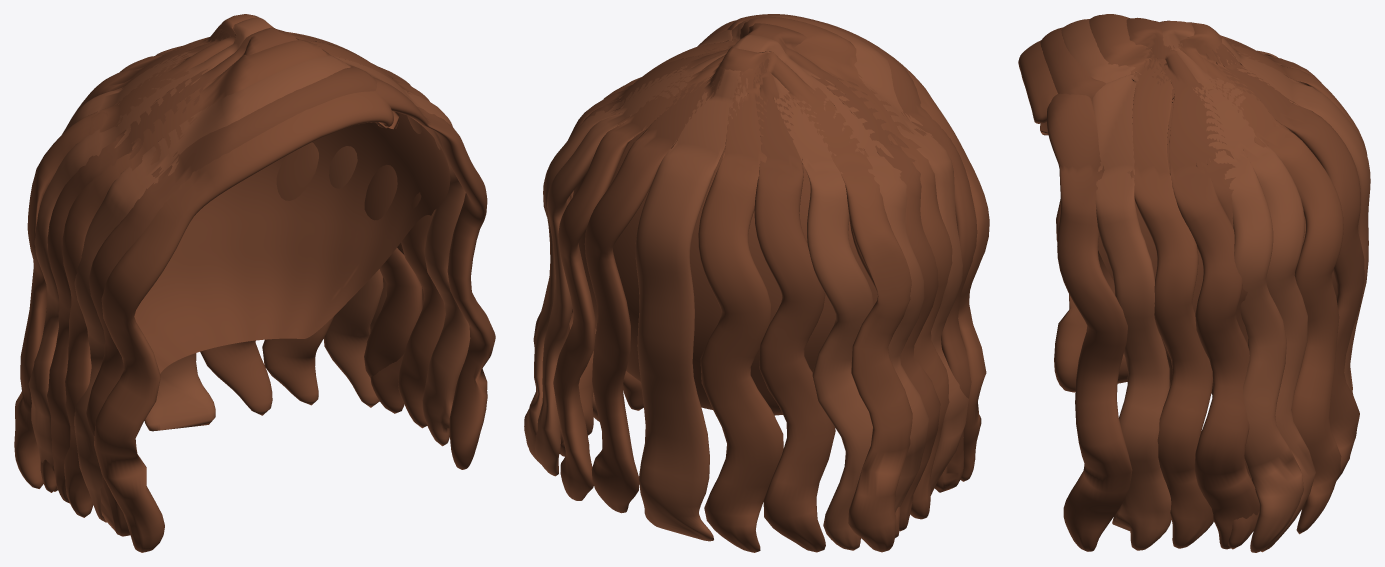
File: curls-pashmina-default.glb
3 views of the same model, side by side, from view 1: azimuth 30°, elevation 25°; view 2: azimuth 150°, elevation 25°; view 3: azimuth 270°, elevation 25° (orthographic). The views are drawn at different scales.
Visible parts, largest first — view 1: 226 hair / Hair / sculpted 0.001, 226 hair / Hair / sculpted 1.002, 226 hair / Hair / sculpted 1.001, 226 hair / Hair / sculpted 2.001; view 2: 226 hair / Hair / sculpted 0.001, 226 hair / Hair / sculpted 2.001, 226 hair / Hair / sculpted 1.002, 226 hair / Hair / sculpted 1.001; view 3: 226 hair / Hair / sculpted 1.002, 226 hair / Hair / sculpted 2.001, 226 hair / Hair / sculpted 0.001, 226 hair / Hair / sculpted 1.001.
Part boxes in pixels (x1,y1,x2,y2): 226 hair / Hair / sculpted 0.001: [14, 14, 445, 552]; 226 hair / Hair / sculpted 1.002: [47, 27, 495, 536]; 226 hair / Hair / sculpted 1.001: [134, 46, 450, 373]; 226 hair / Hair / sculpted 2.001: [28, 17, 470, 522]; 226 hair / Hair / sculpted 0.001: [553, 16, 989, 552]; 226 hair / Hair / sculpted 2.001: [524, 15, 968, 550]; 226 hair / Hair / sculpted 1.002: [533, 14, 977, 552]; 226 hair / Hair / sculpted 1.001: [572, 124, 877, 415]; 226 hair / Hair / sculpted 1.002: [1040, 17, 1364, 551]; 226 hair / Hair / sculpted 2.001: [1061, 19, 1370, 552]; 226 hair / Hair / sculpted 0.001: [1018, 14, 1367, 548]; 226 hair / Hair / sculpted 1.001: [1098, 75, 1337, 395].
Bounding box in the file's own units: 0.8965 × 0.9886 × 0.6957.
